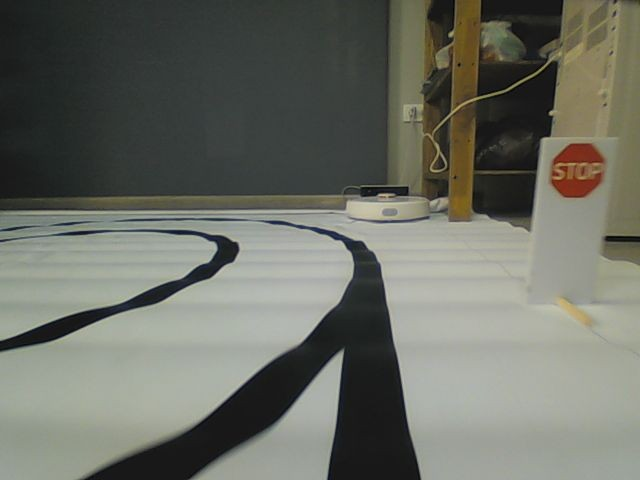Stop: (548, 143, 607, 201)
